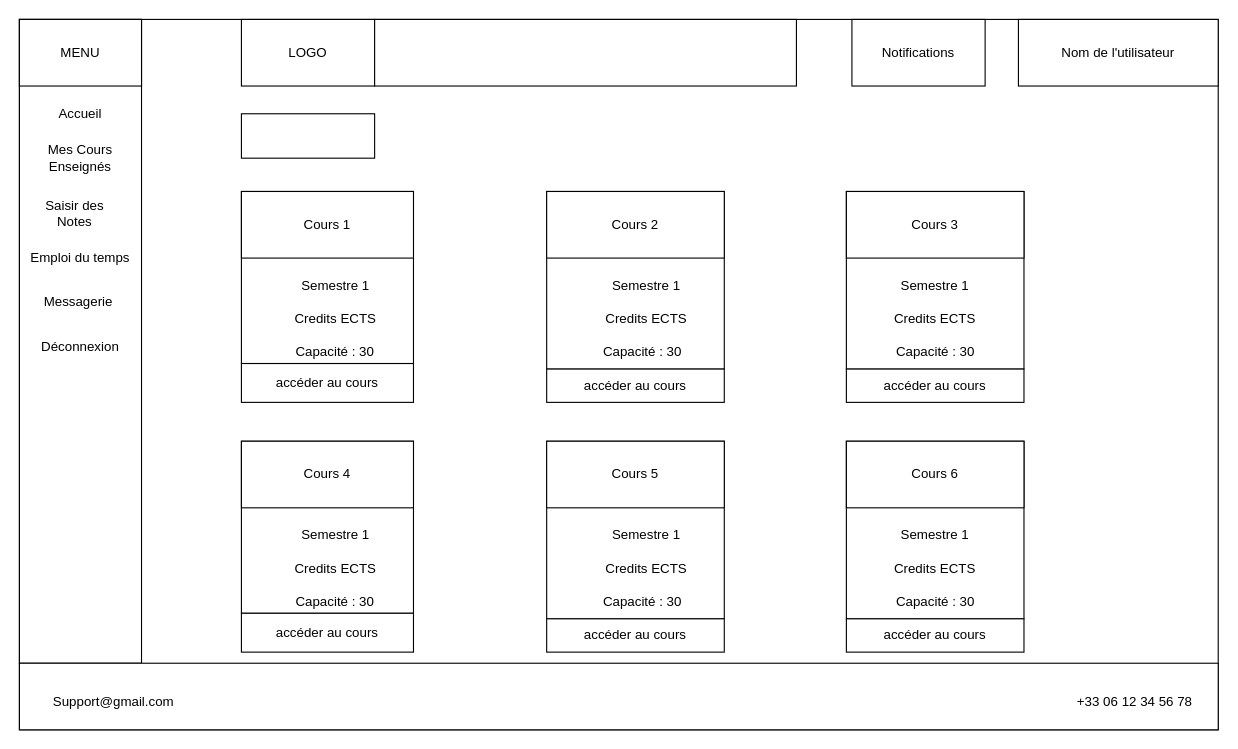
Image size: 1238x749. Some labels were removed from this diagram. Here are the shapes that lost their labels. From the top down, the centre of each, then its label:
At (x=585, y=52): "Nom du site".
At (x=307, y=135): "Cours Assignés".
